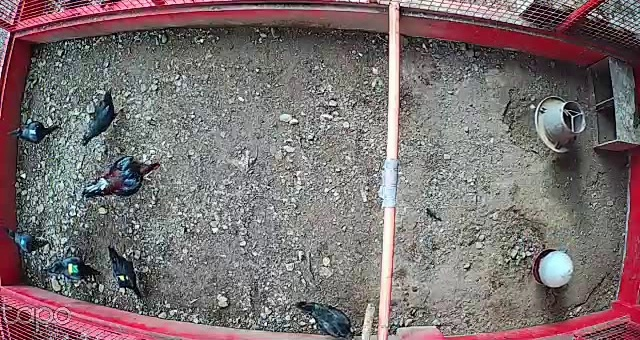Chicken: (81, 83, 133, 148), (293, 299, 356, 340), (107, 244, 148, 300), (43, 254, 101, 286), (6, 116, 64, 147), (2, 223, 56, 256)
Rooster: (77, 150, 163, 208)
Saddle_Color_Blue: (20, 238, 28, 246)
Saddle_Color_White: (29, 128, 38, 134)
Saddle_Color_Yellow: (117, 274, 129, 281)
Saddle_Color_YellowGreen: (69, 263, 80, 274)
